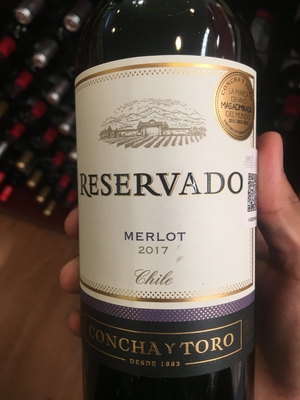reservado merlot: (59, 12, 272, 400)
